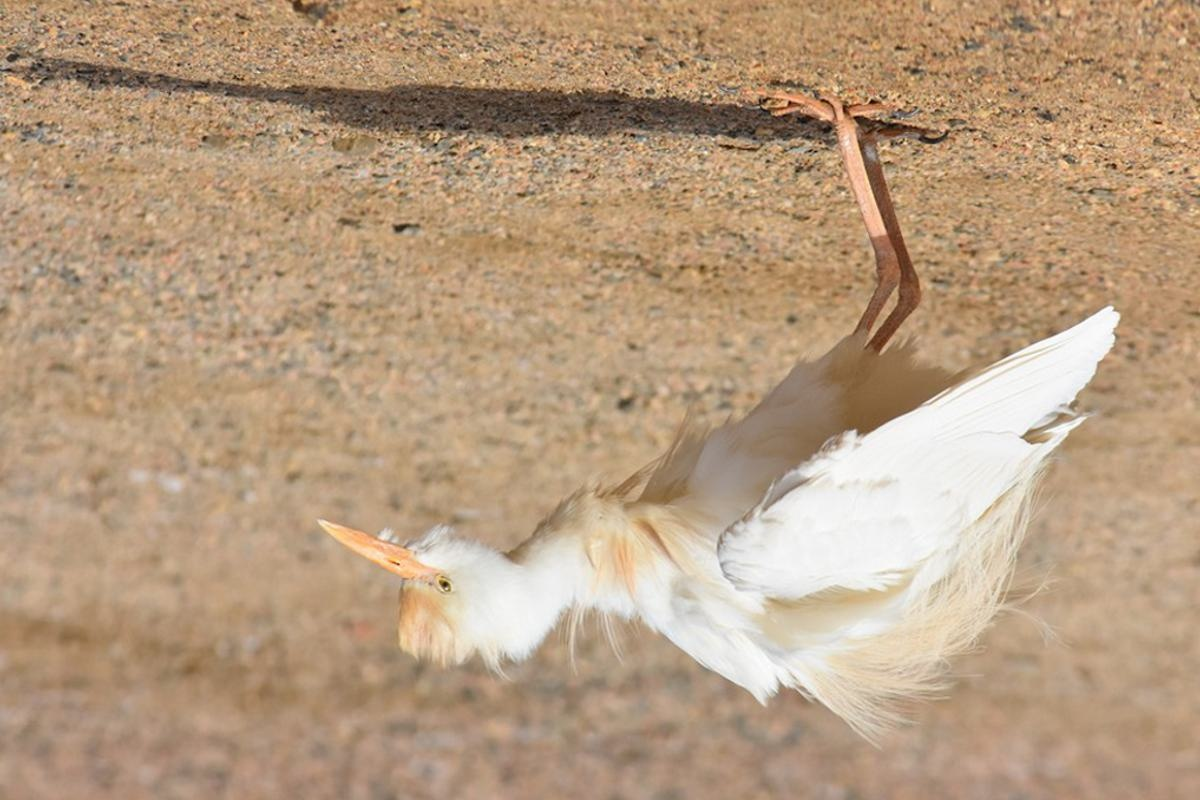egret: (311, 84, 1120, 718)
